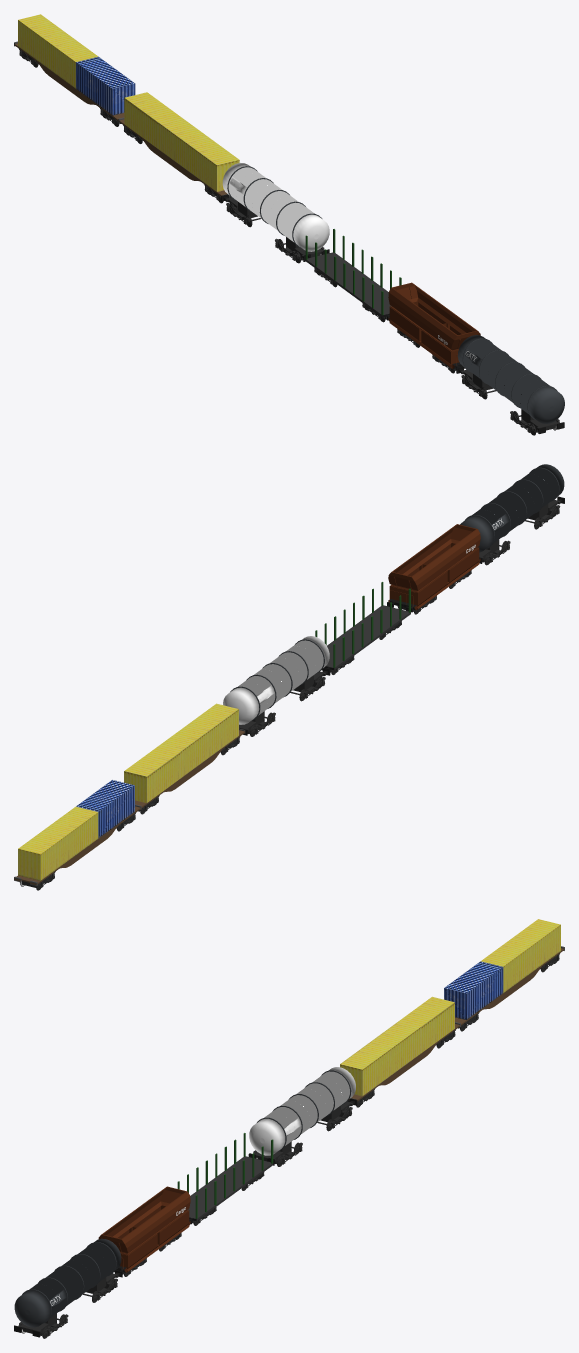
Rendered from Cargo.fbx.
3 views of the same model, one above another, from view 1: azimuth 30°, elevation 25°; view 2: azimuth 150°, elevation 25°; view 3: azimuth 330°, elevation 25° (orthographic).
Parts seen in each view (by area): view 1: Cargo; view 2: Cargo; view 3: Cargo.
Part boxes in pixels (x1=…): Cargo: x1=14, y1=14, x2=564, y2=435; Cargo: x1=14, y1=464, x2=564, y2=890; Cargo: x1=14, y1=919, x2=564, y2=1338.
Size of the model in its own units: 172 by 235 by 4872.
14 materials, 4 textured.
